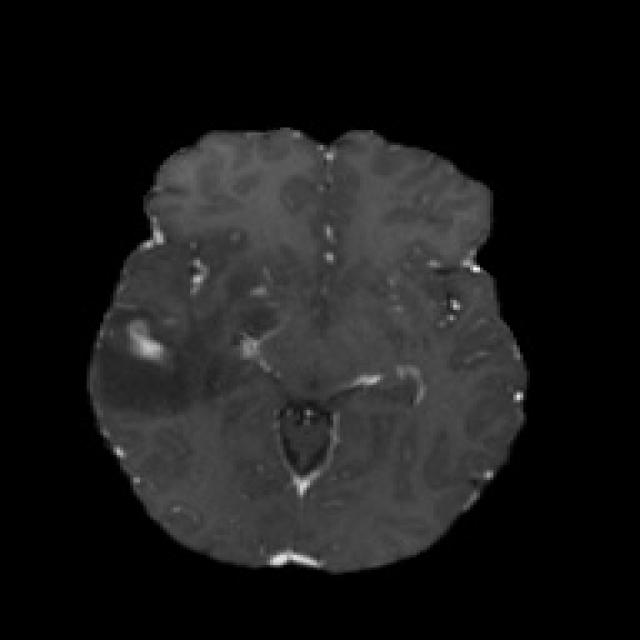positive: (126, 320, 166, 362)
